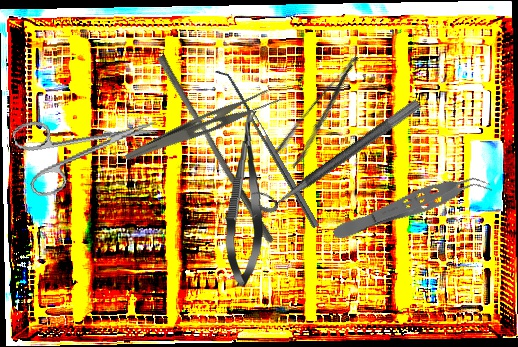Dressing Forceps: (124, 78, 283, 178), (272, 53, 376, 170)
Fixation Ring: (249, 85, 423, 218)
Iris Scissors: (10, 91, 168, 202)
Micro Scissor: (222, 109, 270, 288)
Pusher: (150, 54, 282, 244)
Spatula Surgical: (214, 64, 320, 233)
Tissue Forceps: (329, 165, 493, 248)
